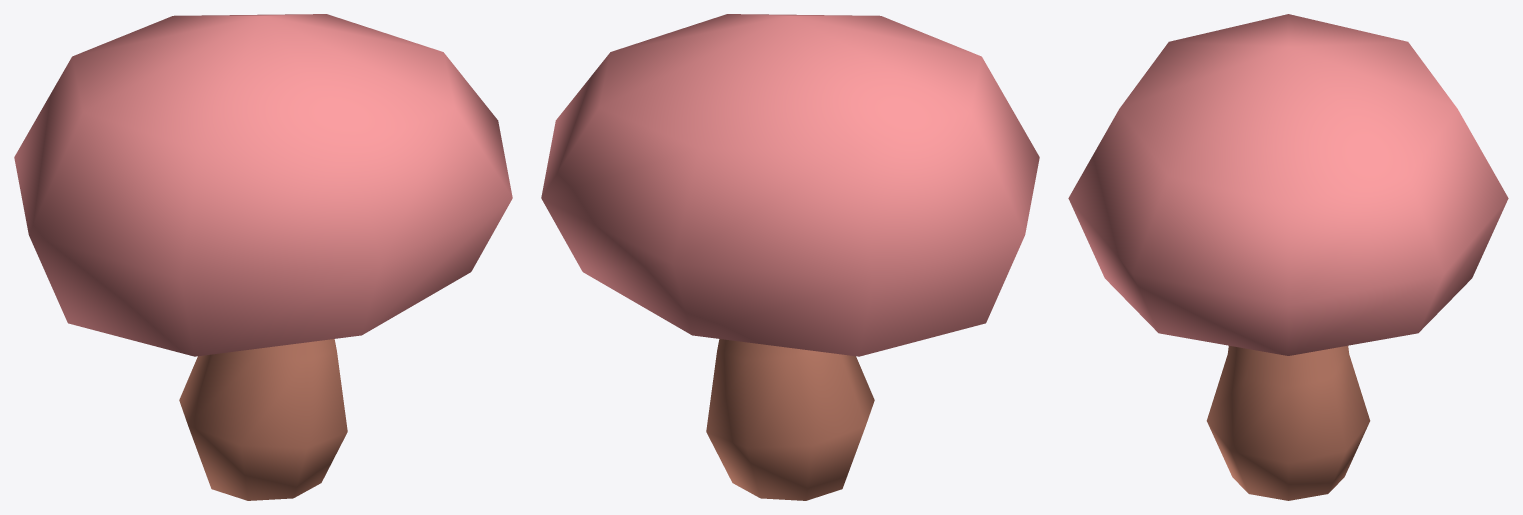
Rendered from Mushroom.fbx.
The picture shows the model from 3 angles, left to right: view 1: azimuth 30°, elevation 25°; view 2: azimuth 150°, elevation 25°; view 3: azimuth 270°, elevation 25°; orthographic projection. The views are drawn at different scales.
Parts seen in each view (by area): view 1: Mushroom; view 2: Mushroom; view 3: Mushroom.
Boxes of the visible parts, left/top/right/bottom form: Mushroom: left=14, top=14, right=512, bottom=500; Mushroom: left=541, top=14, right=1039, bottom=500; Mushroom: left=1068, top=14, right=1508, bottom=500.
Size of the model in its own units: 197 by 192 by 171.
